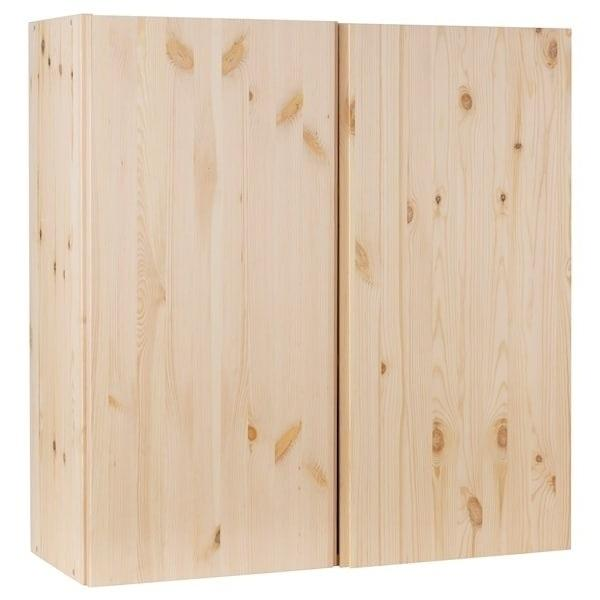cabinet_door: (49, 12, 341, 565), (340, 21, 570, 557)
